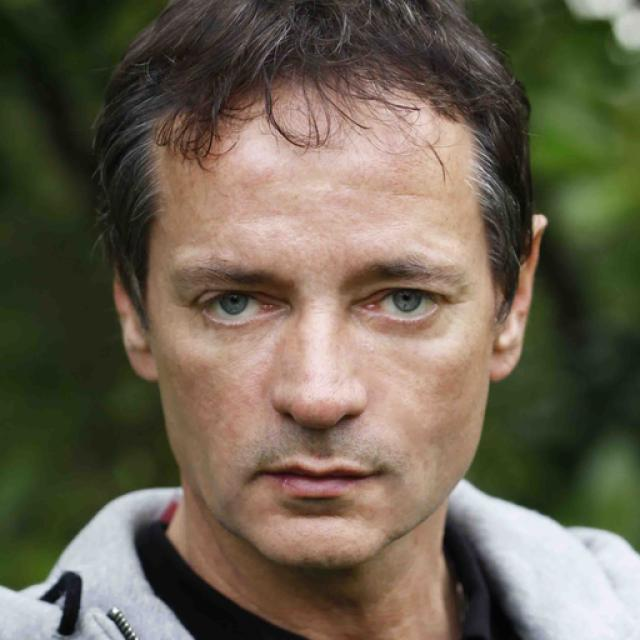neutral: (152, 62, 496, 572)
